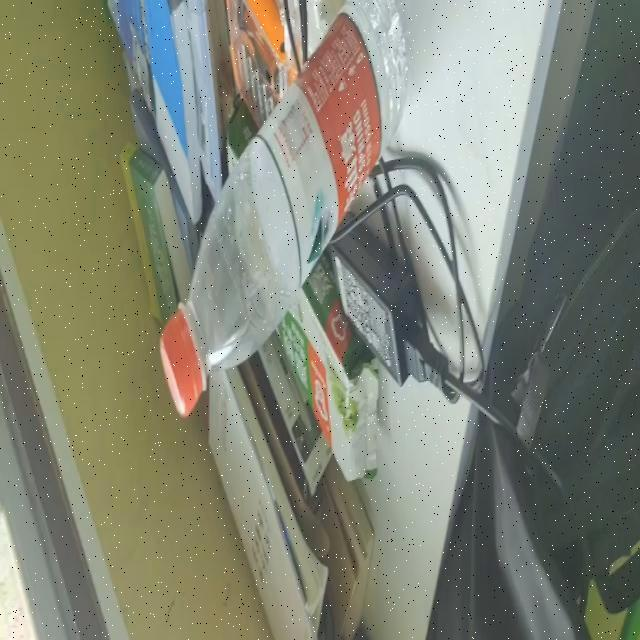bottle: (156, 0, 410, 419)
cap: (143, 310, 225, 428)
label: (255, 6, 385, 252)
